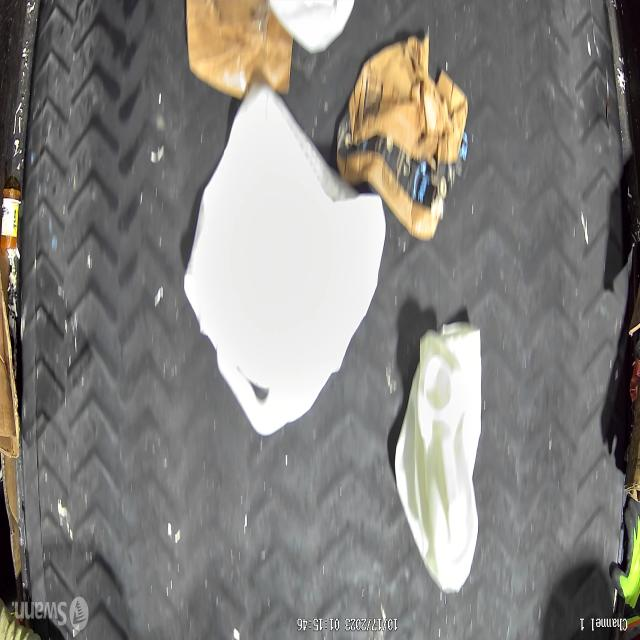milk_jug: (184, 77, 382, 439), (394, 321, 483, 599)
